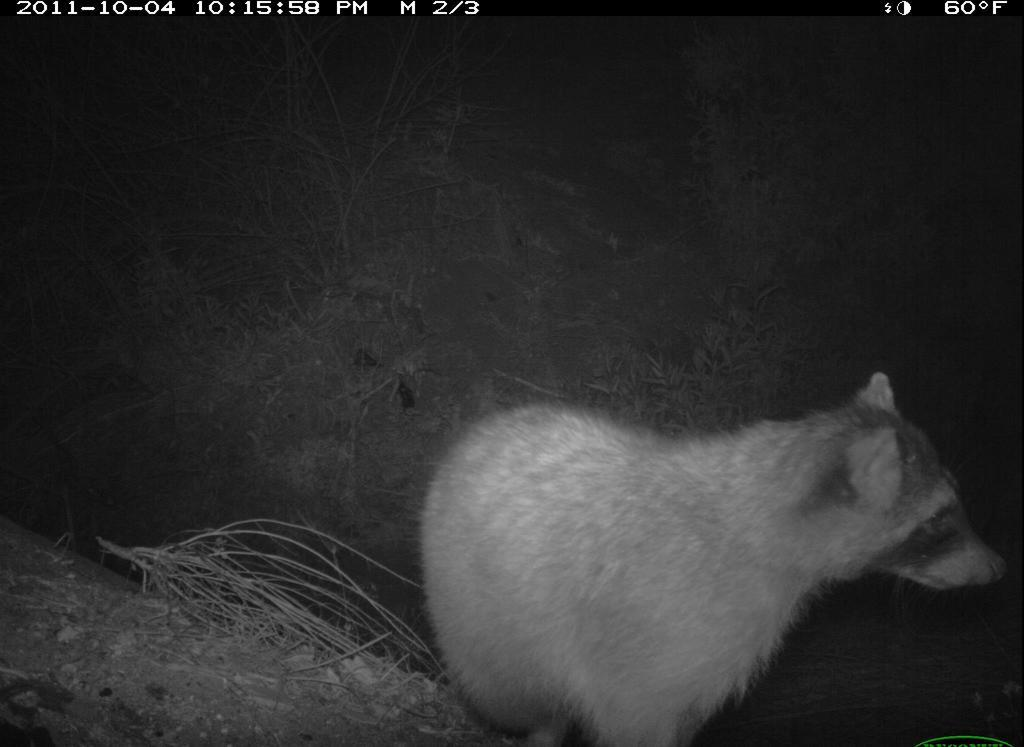raccoon: (405, 355, 1012, 747)
